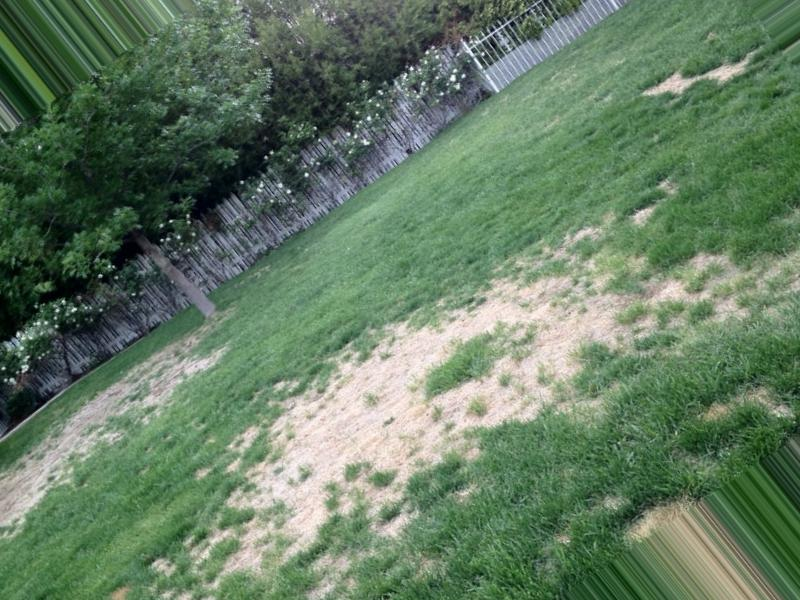patch: (437, 324, 590, 393), (279, 391, 421, 453), (504, 281, 677, 318), (270, 463, 397, 505), (418, 397, 527, 426), (360, 336, 410, 399), (10, 455, 35, 509), (60, 423, 109, 446), (668, 68, 738, 78)
